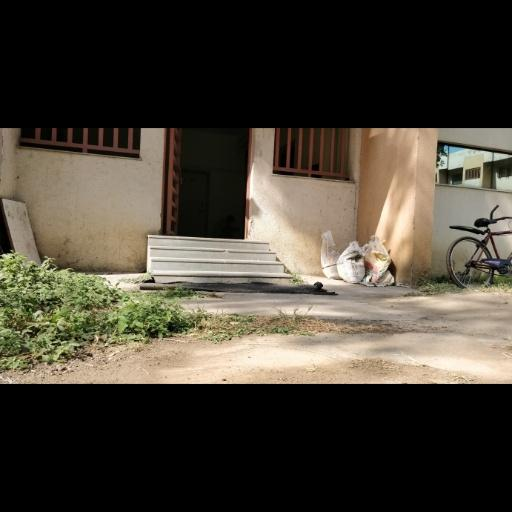stairs: (147, 235, 291, 283)
